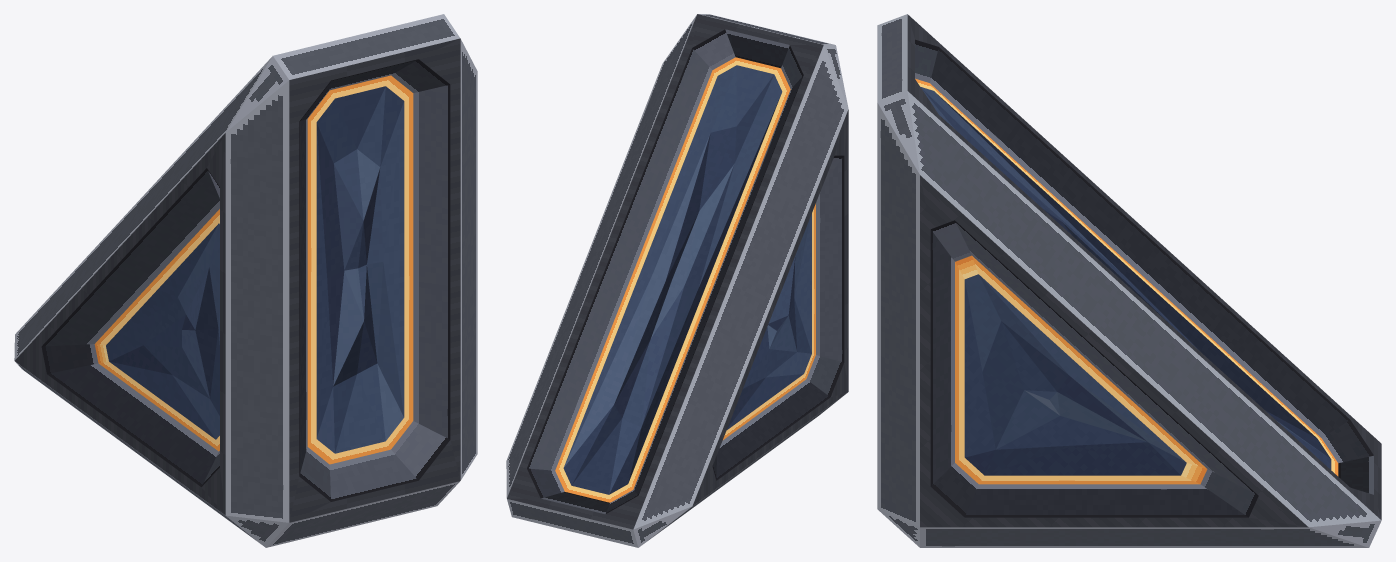
File: marlit_half_slab.glb
The picture shows the model from 3 angles, left to right: view 1: azimuth 30°, elevation 25°; view 2: azimuth 150°, elevation 25°; view 3: azimuth 270°, elevation 25°; orthographic projection. The views are drawn at different scales.
Parts seen in each view (by area): view 1: marlit_half_slab_body; view 2: marlit_half_slab_body; view 3: marlit_half_slab_body.
Boxes of the visible parts, x1,y1,x2,y2 form: marlit_half_slab_body: [14, 14, 477, 547]; marlit_half_slab_body: [506, 14, 848, 547]; marlit_half_slab_body: [877, 14, 1381, 547].
Bounding box in the file's own units: 1 × 1.89 × 1.89.
Materials: 1 (1 with a texture image).
